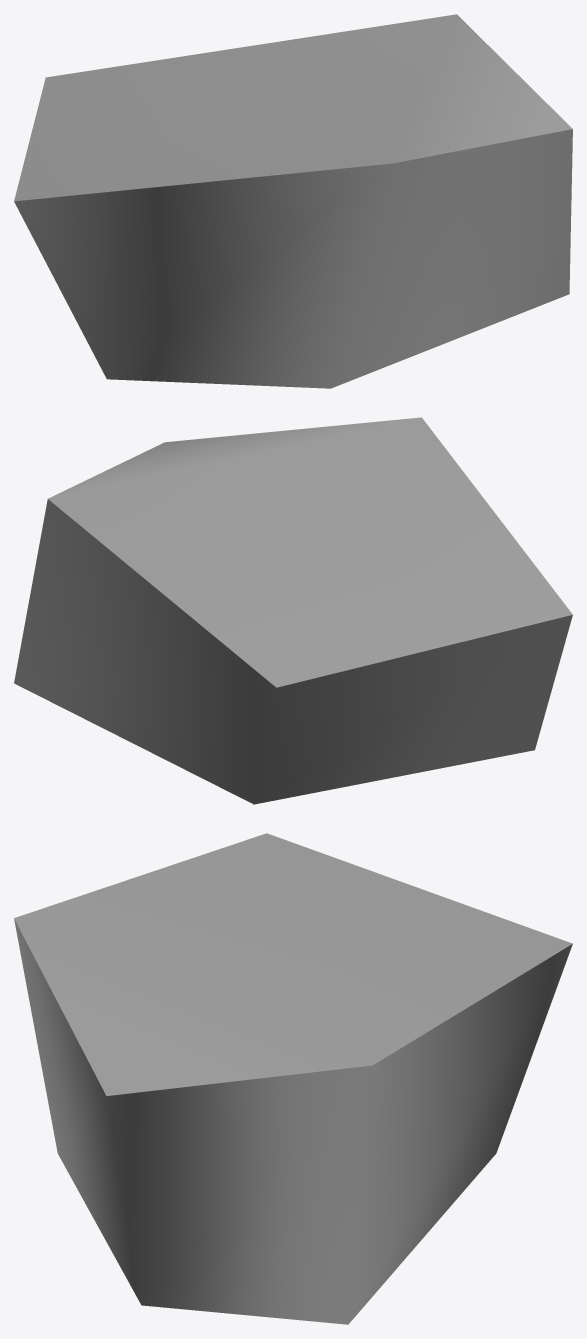
Rendered from Stone.fbx.
3 views of the same model, one above another, from view 1: azimuth 30°, elevation 25°; view 2: azimuth 150°, elevation 25°; view 3: azimuth 270°, elevation 25° (orthographic). The views are drawn at different scales.
Visible parts, largest first — view 1: pCylinder2; view 2: pCylinder2; view 3: pCylinder2.
Part boxes in pixels (x1,y1,x2,y2): pCylinder2: (14,14,572,388); pCylinder2: (14,417,572,804); pCylinder2: (14,833,572,1324).
Bounding box in the file's own units: 6.03 × 2.46 × 4.83.
Materials: 1 (1 with a texture image).
